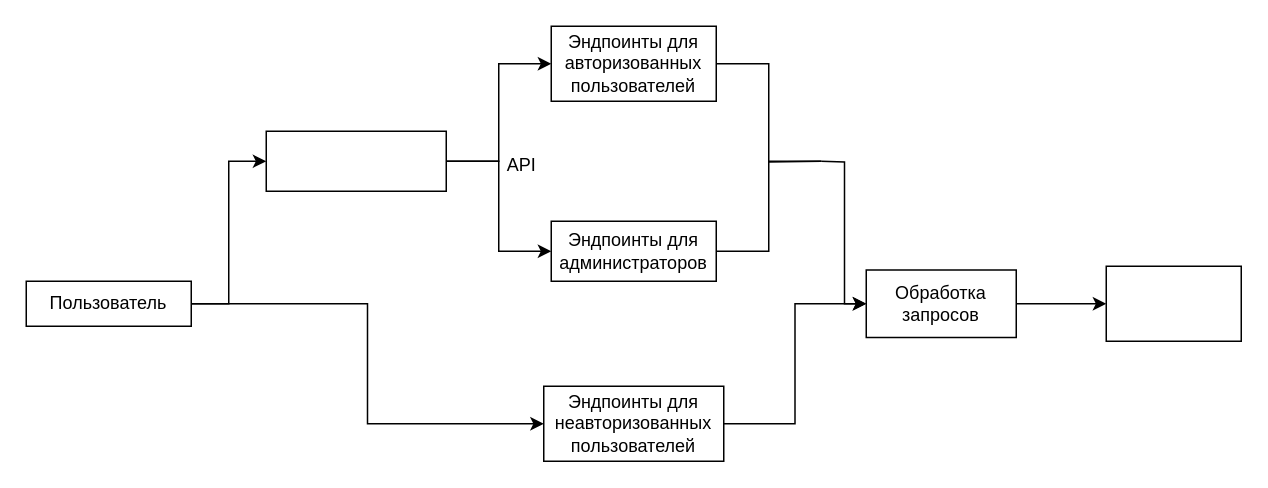
The diagram is 1268 pixels wide and 488 high, and some of its shapes have lost their labels. Here are the shapes that lost their labels. From the top down, the centre of each, then its label:
At (355,160): "Модуль авторизации".
At (1173,303): "База данных".
